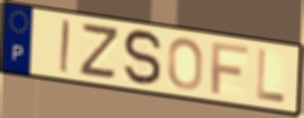F: (210, 40, 250, 97)
I: (58, 17, 71, 76)
L: (254, 47, 287, 106)
O: (166, 36, 205, 92)
S: (122, 27, 164, 88)
Z: (77, 23, 122, 82)
